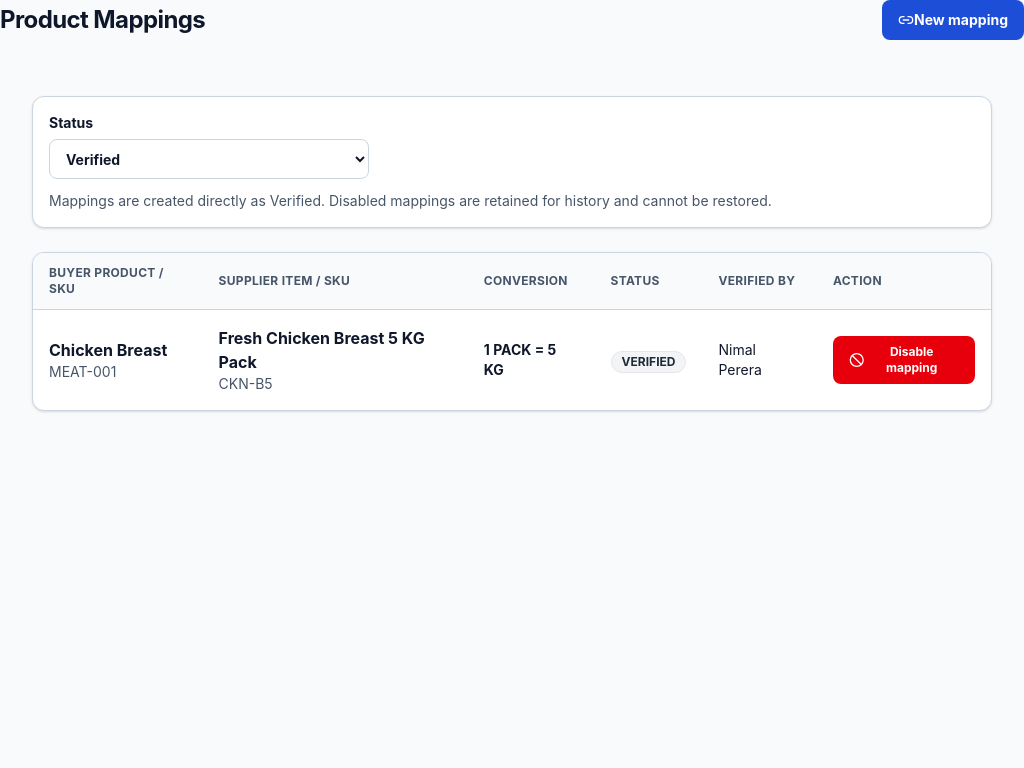
ProductMappingsScreen › uses a named confirmation for C-26 and keeps the outcome durable
The width and height of the screenshot is (1024, 768).
Click the button "Disable mapping": (904, 360) x1=833 y1=336 x2=975 y2=384
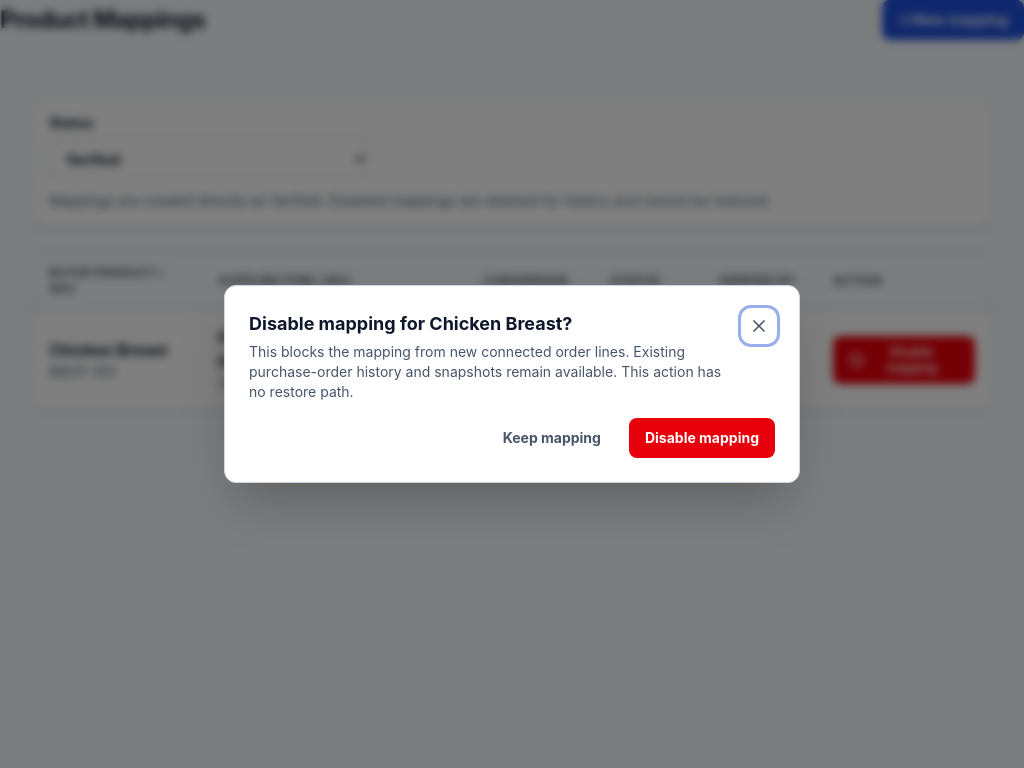
Result: the heading "Disable mapping for Chicken Breast?" is shown at x1=249 y1=313 x2=572 y2=334
Result: the text "This action has no restore path" is shown at x1=249 y1=343 x2=721 y2=400
Click the button "Disable mapping": (702, 438) x1=629 y1=418 x2=775 y2=458
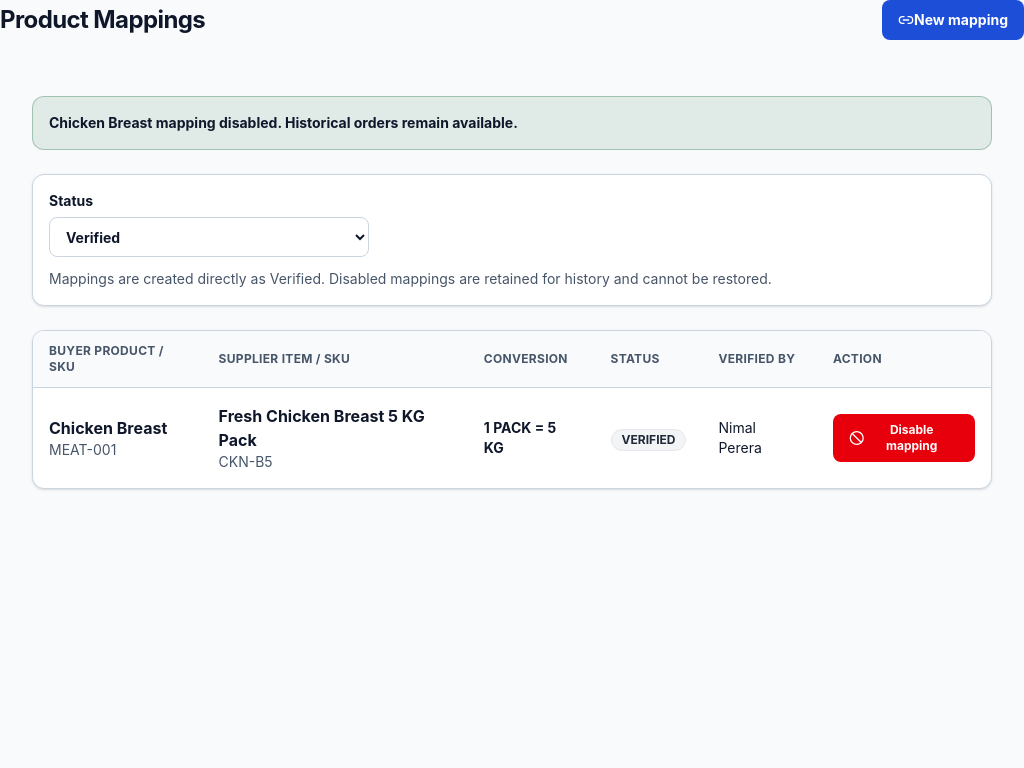
Result: the text "Chicken Breast mapping disabled. Historical orders remain available." is shown at x1=32 y1=96 x2=992 y2=150
